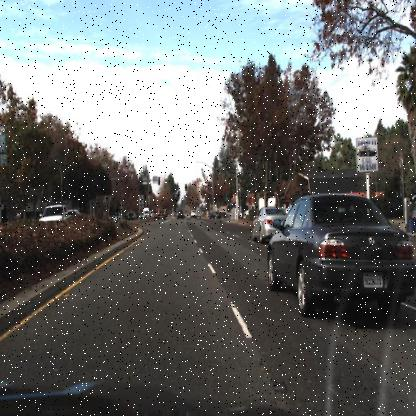car: (266, 195, 415, 320), (251, 206, 289, 244), (40, 202, 70, 232), (155, 206, 166, 222)
